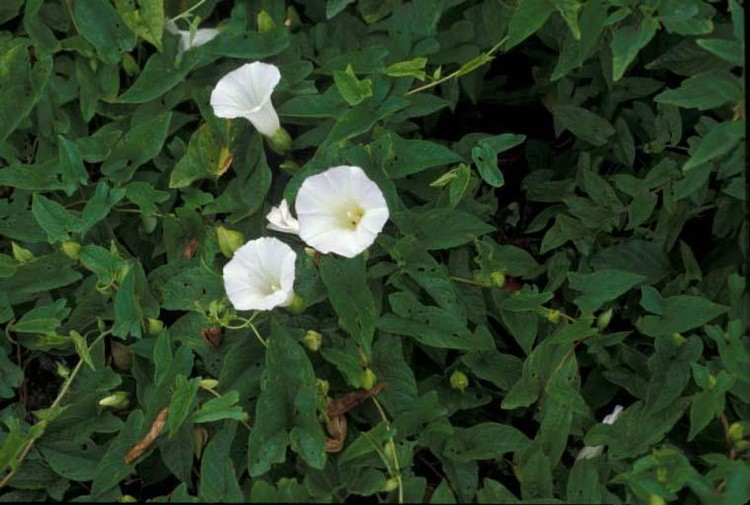bindweed: (292, 162, 390, 262), (207, 59, 294, 154), (219, 232, 306, 317)
